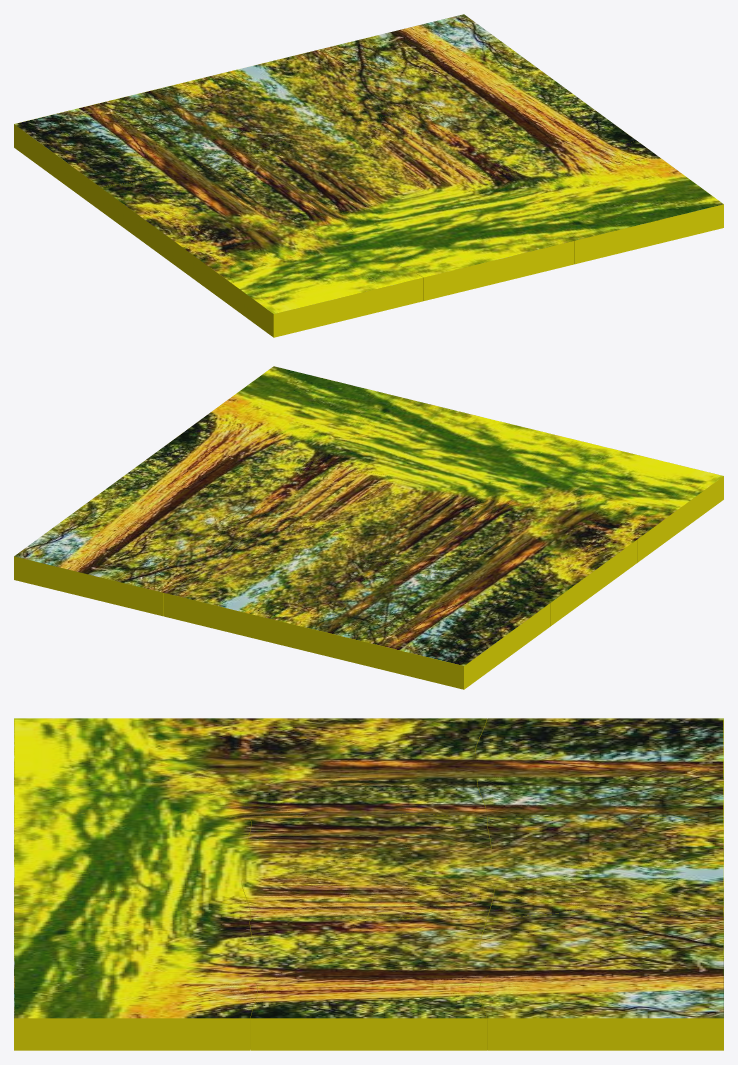
Rendered from 3 by 3 puzzle - samuelgragg.fbx.
3 renders of one model, top to bottom at view 1: azimuth 30°, elevation 25°; view 2: azimuth 150°, elevation 25°; view 3: azimuth 270°, elevation 25°, orthographic. The views are drawn at different scales.
Visible parts, largest first — view 1: path37, path36.001, path33, path35, rect10, path32, path30, path31, path34; view 2: rect10, path30, path31, path33, path37, path36.001, path34, path32, path35; view 3: path36.001, path32, path31, path33, rect10, path30, path34, path35, path37.
Part boxes in pixels (x1,y1,x2,y2): path37: [187, 214, 423, 337]; path36.001: [487, 141, 723, 264]; path33: [100, 151, 336, 273]; path35: [338, 177, 573, 300]; rect10: [14, 87, 250, 210]; path32: [401, 77, 636, 177]; path30: [164, 51, 400, 150]; path31: [314, 14, 550, 113]; path34: [251, 114, 491, 214]; rect10: [307, 566, 550, 689]; path30: [164, 527, 400, 652]; path31: [14, 493, 250, 616]; path33: [401, 502, 637, 625]; path37: [488, 439, 723, 562]; path36.001: [187, 366, 429, 465]; path34: [248, 466, 486, 566]; path32: [101, 428, 336, 529]; path35: [337, 403, 573, 502]; path36.001: [14, 890, 257, 1050]; path32: [190, 918, 536, 1050]; path31: [480, 913, 723, 1050]; path33: [188, 718, 486, 840]; rect10: [475, 718, 723, 846]; path30: [424, 817, 723, 939]; path34: [242, 814, 493, 946]; path35: [14, 813, 293, 918]; path37: [14, 718, 249, 840].
Size of the model in its own units: 19.98 by 1 by 19.97.
Materials: 2 (1 with a texture image).
